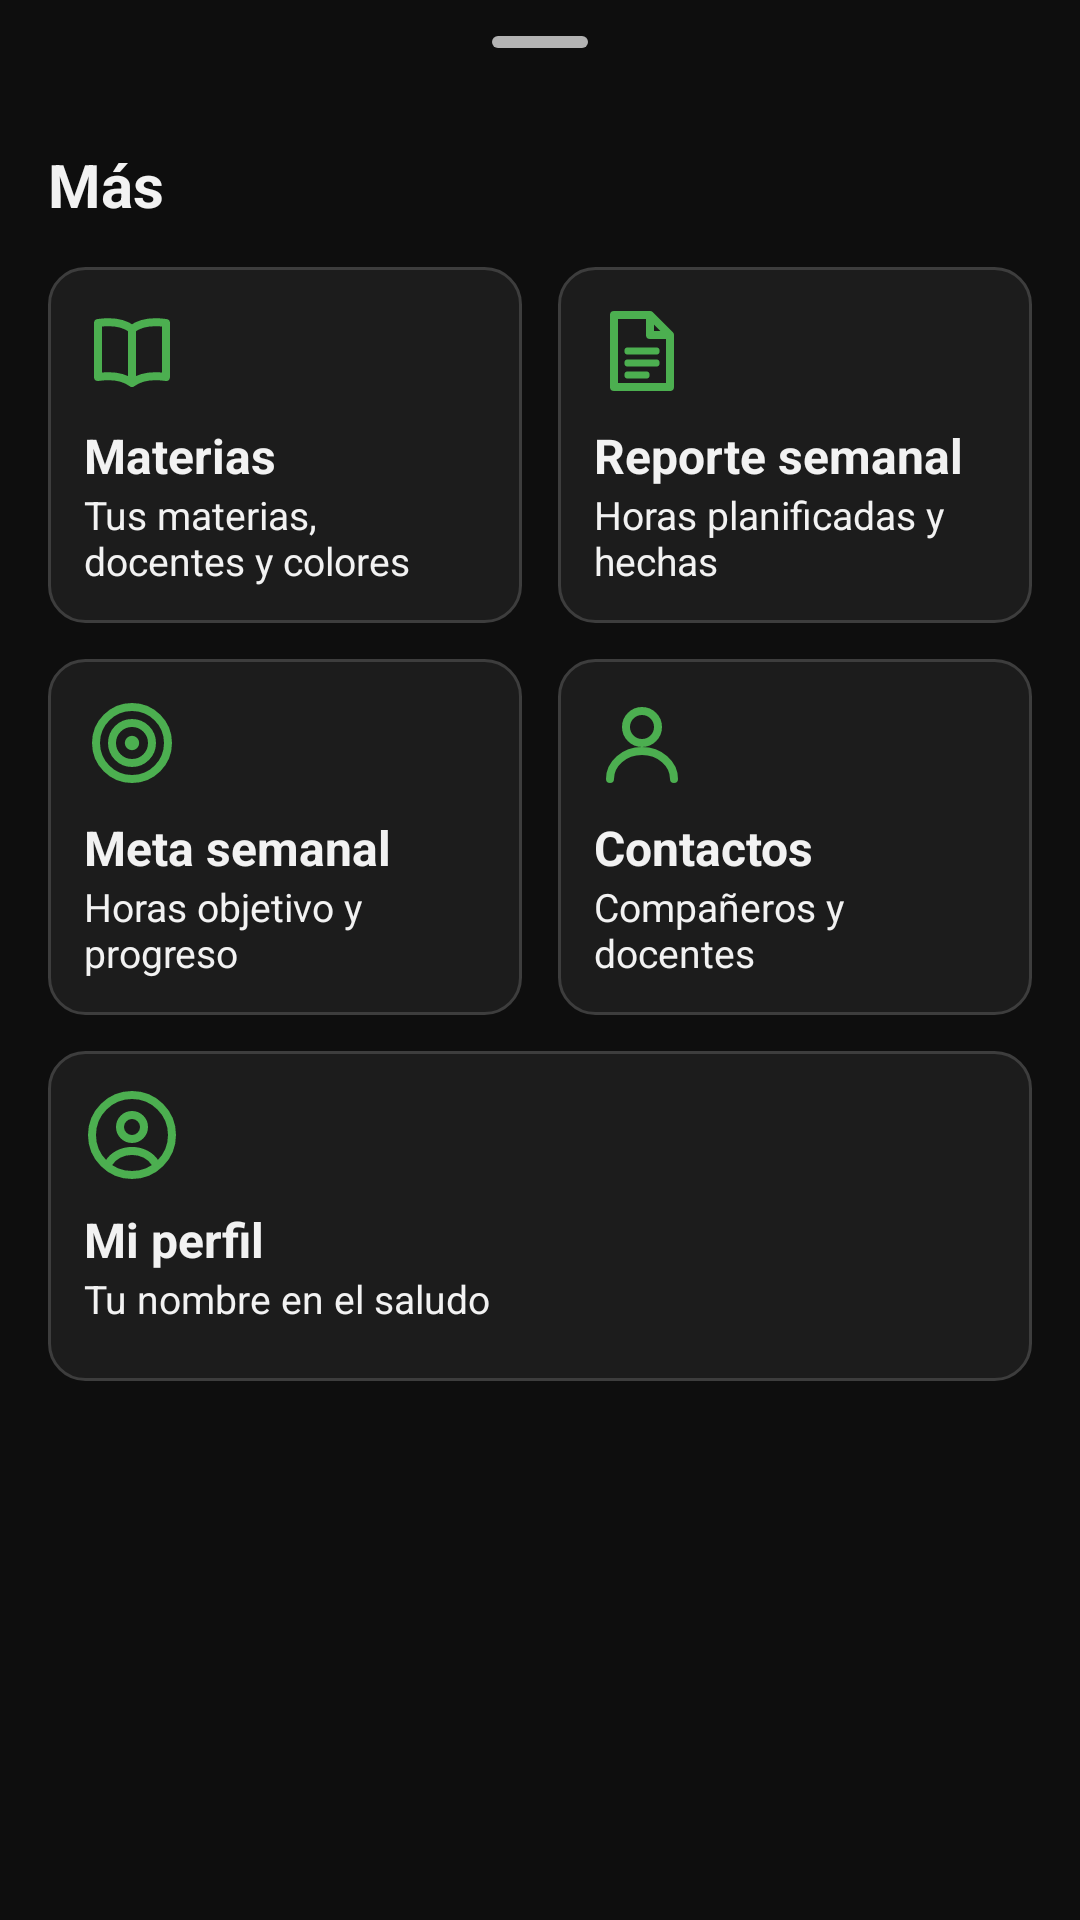

Named icons in this screenshot (1080*1920) and their centers, [x,y]:
diana: [132,743]
documento: [642,351]
libro: [132,352]
persona: [642,745]
